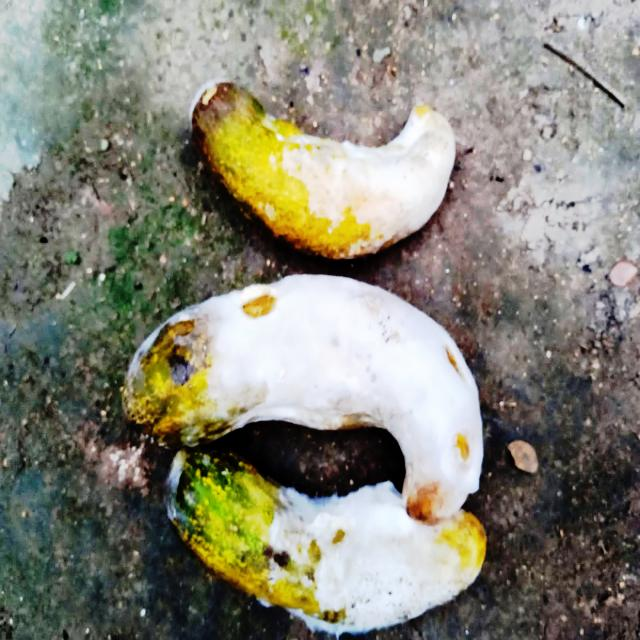Pythium-Fruit-Rot: (191, 268, 499, 500), (266, 479, 452, 635), (279, 120, 461, 252)
